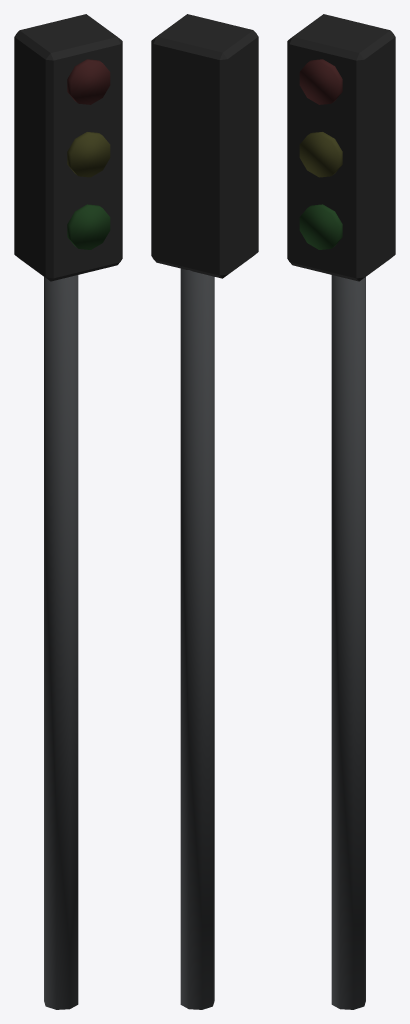
File: traffic_light.glb
3 renders of one model, left to right at view 1: azimuth 30°, elevation 25°; view 2: azimuth 150°, elevation 25°; view 3: azimuth 330°, elevation 25°, orthographic.
Parts seen in each view (by area): view 1: TrafficLight; view 2: TrafficLight; view 3: TrafficLight.
Part boxes in pixels (x1=…): TrafficLight: x1=14, y1=14, x2=122, y2=1009; TrafficLight: x1=151, y1=14, x2=258, y2=1009; TrafficLight: x1=287, y1=14, x2=395, y2=1009.
Bounding box in the file's own units: 0.3 × 3.62 × 0.275.
